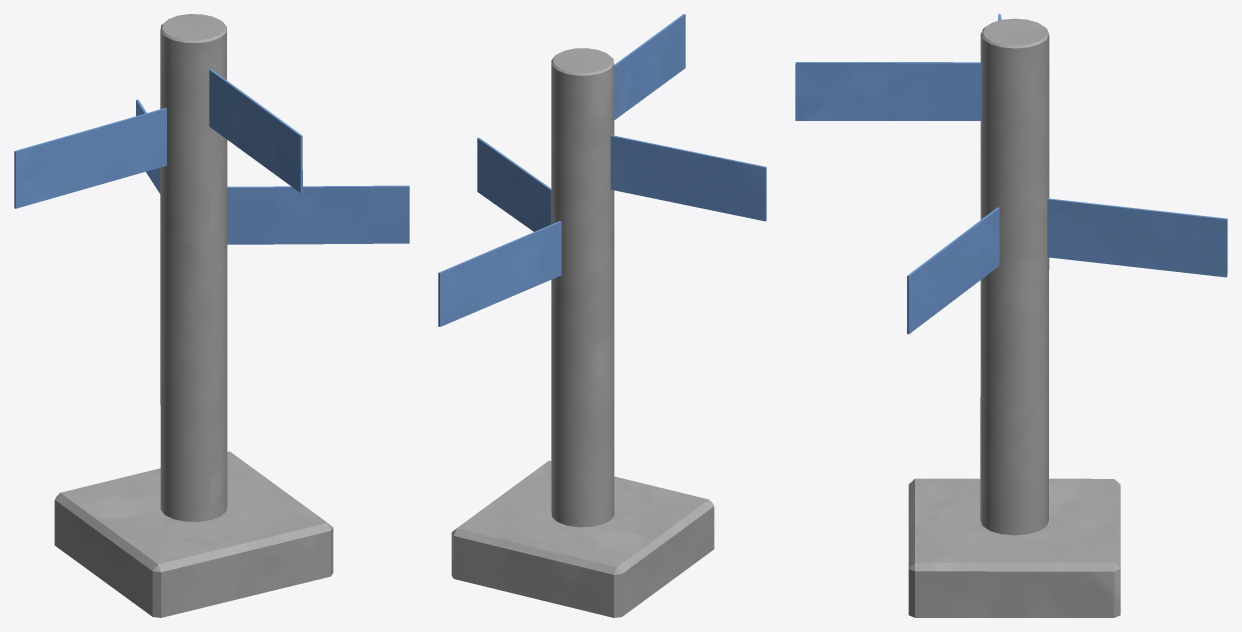
The model's file is Road.fbx.
The picture shows the model from 3 angles, left to right: view 1: azimuth 30°, elevation 25°; view 2: azimuth 150°, elevation 25°; view 3: azimuth 270°, elevation 25°; orthographic projection. The views are drawn at different scales.
Parts seen in each view (by area): view 1: Road; view 2: Road; view 3: Road.
Boxes of the visible parts, box(x1,y1,x2,y2) form: Road: box(14, 14, 409, 617); Road: box(438, 14, 766, 617); Road: box(795, 14, 1227, 617).
Bounding box in the file's own units: 5.5 × 7.98 × 5.78.
